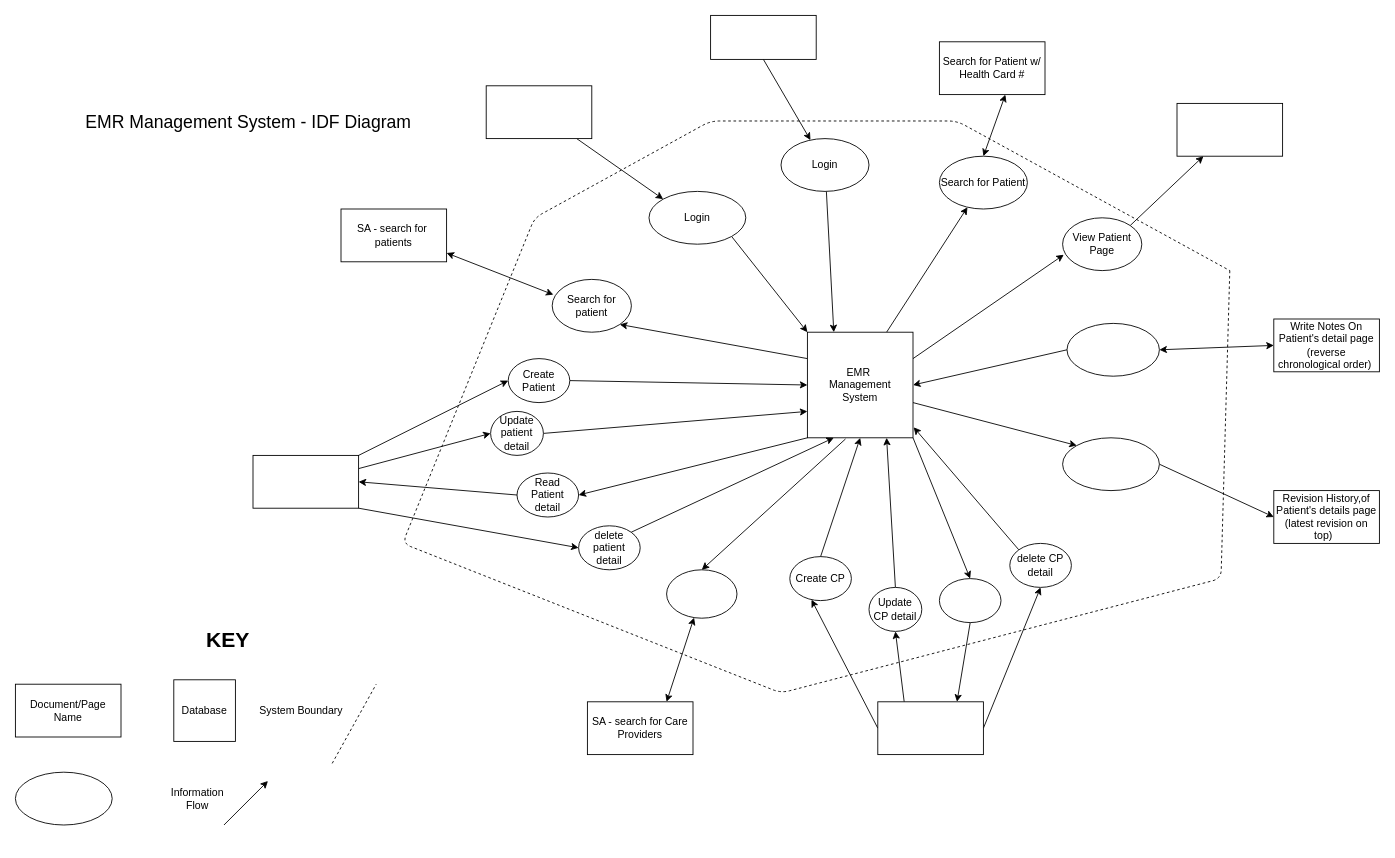
This 1395x858 diagram has some shape labels left out. The centre of each missing label's shape, as x and y in pixels:
"Login Form" goes at [763,37].
"Read CP detail" goes at [970,600].
"SA - Care Provider(CP) Page" goes at [930,728].
"SA - Patient page" goes at [305,481].
"Search for Care Provider" goes at [701,593].
"Show revisions made on patient's record" goes at [1110,464].
"Super Admin Login (SA)" goes at [538,112].
"TASK NAME" goes at [63,798].
"View Patient Details" goes at [1229,129].
"Write notes on patient page" goes at [1112,349].
